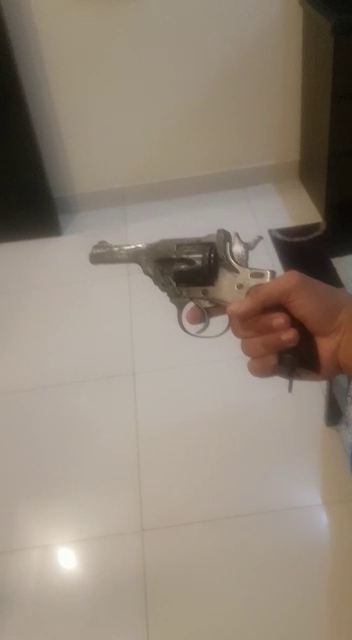handgun: (77, 221, 346, 408)
